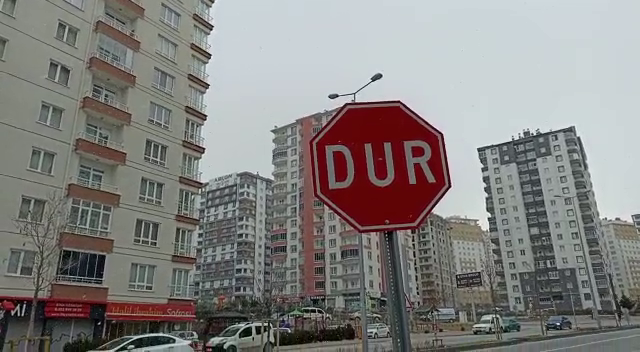stop: (307, 97, 454, 236)
